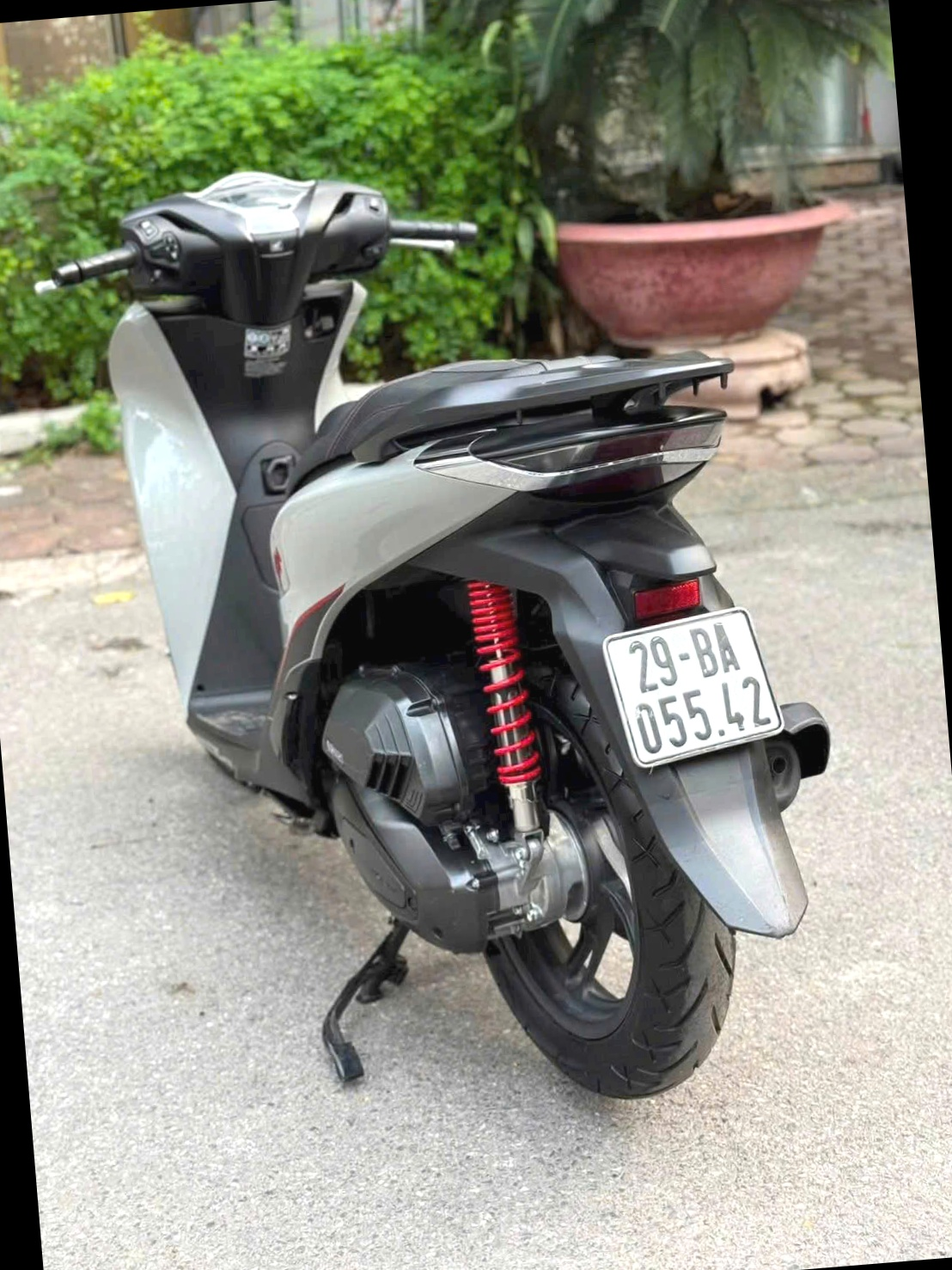Bien-so: (600, 642, 795, 802)
